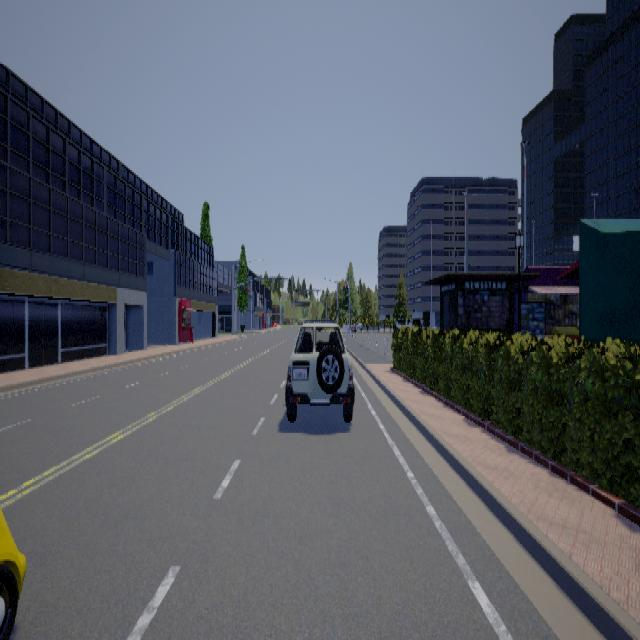vehicle: (284, 315, 354, 421), (0, 506, 26, 638)
